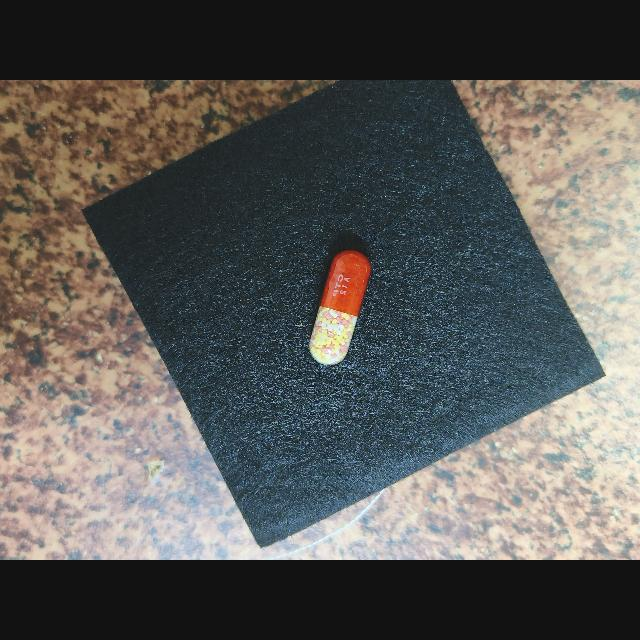Intact Capsule: (309, 250, 371, 365)
